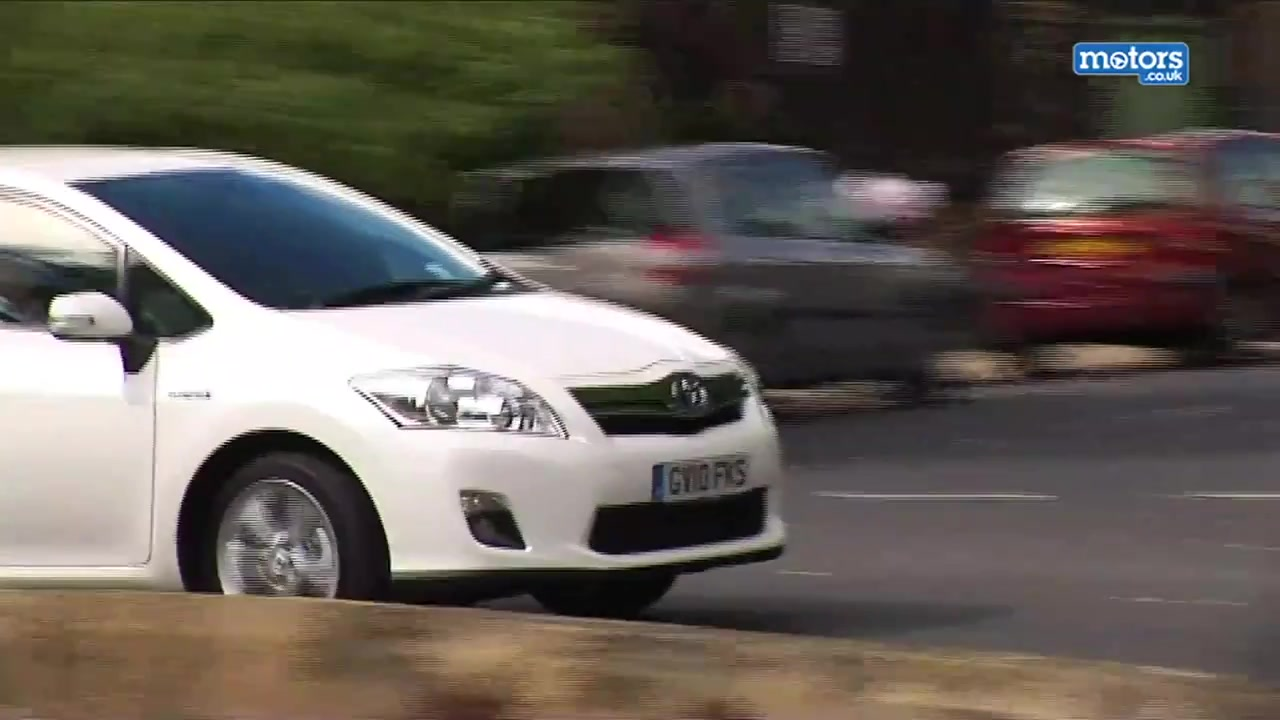car: (1, 134, 788, 606), (455, 143, 963, 411), (968, 131, 1280, 376)
